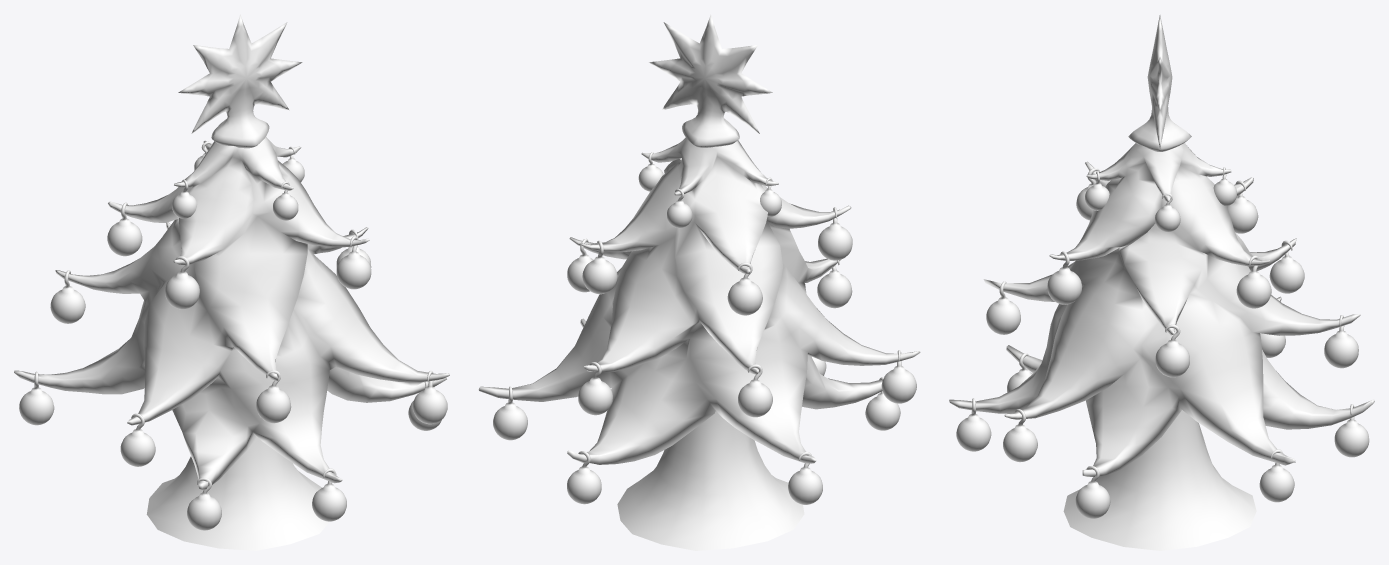
File: tree.gltf
3 views of the same model, side by side, from view 1: azimuth 30°, elevation 25°; view 2: azimuth 150°, elevation 25°; view 3: azimuth 270°, elevation 25° (orthographic).
Parts seen in each view (by area): view 1: christmasTree; view 2: christmasTree; view 3: christmasTree.
Part boxes in pixels (x1,y1,x2,y2): christmasTree: (14, 14, 449, 550); christmasTree: (478, 14, 920, 550); christmasTree: (949, 15, 1374, 550).
Bounding box in the file's own units: 0.6592 × 0.933 × 0.7302.
Materials: 1 (1 with a texture image).
